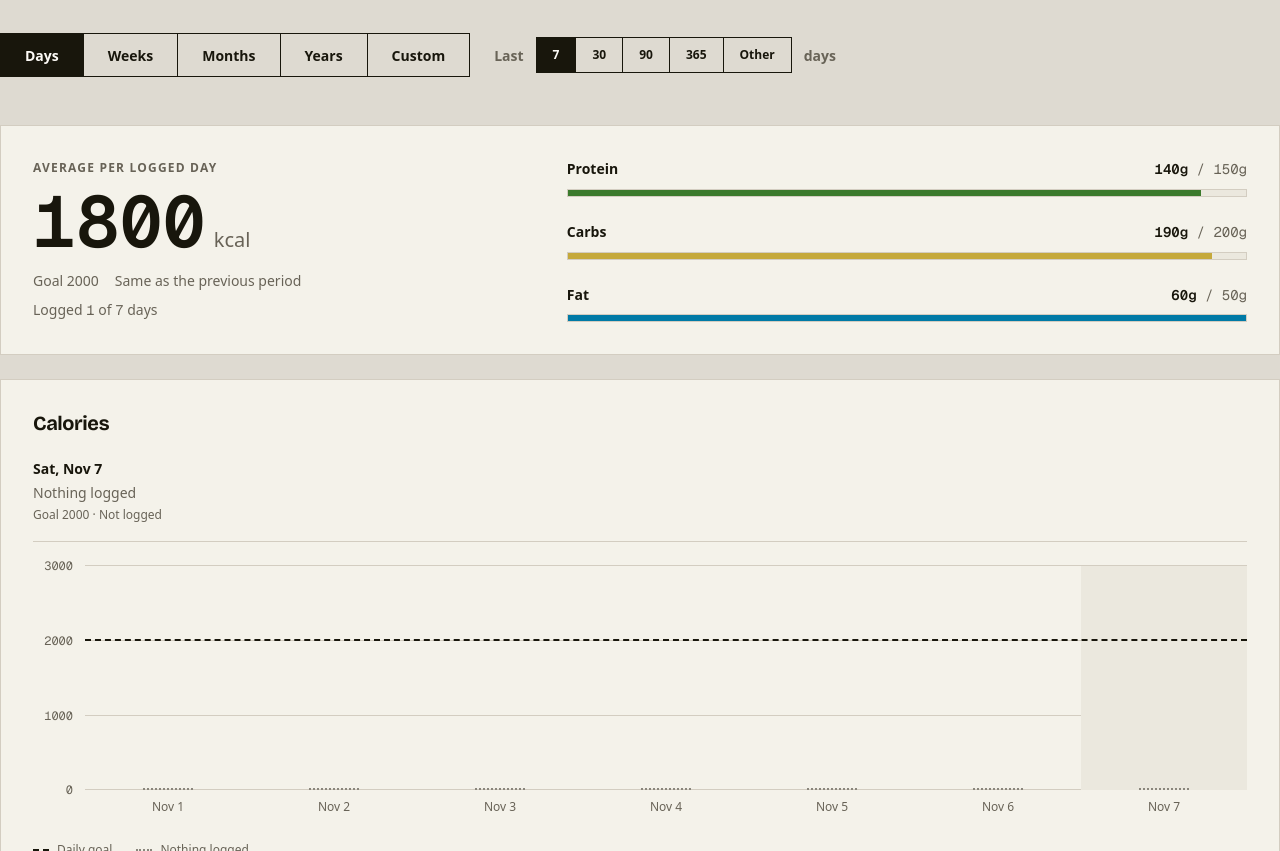
Test: Trends › lists weeks newest first, per logged day, with gaps and singular days spelled out
The width and height of the screenshot is (1280, 851).
Expected: the text "Average per logged day" is shown, [33, 159, 217, 176]
Click the button "Custom". click: (418, 55)
box: [368, 34, 469, 76]
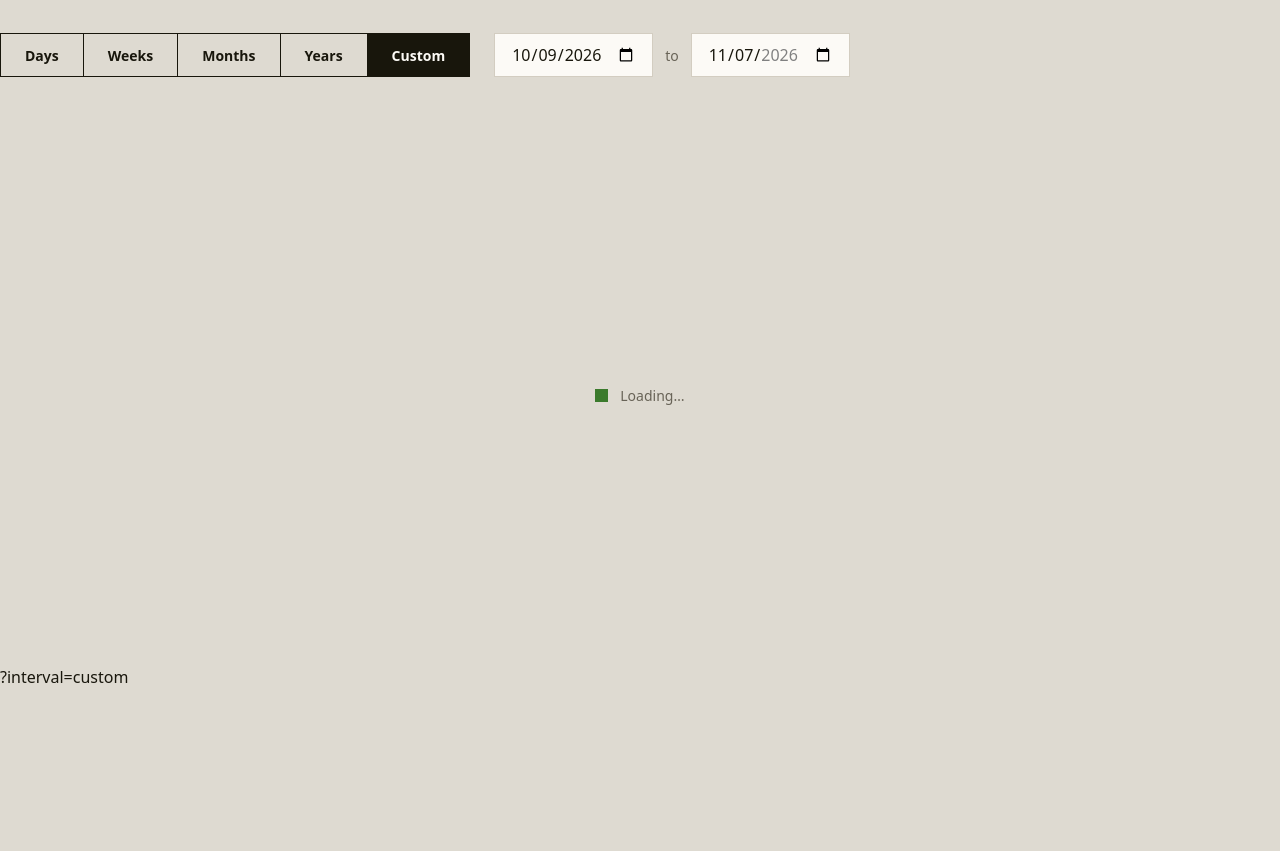
Type "2026-10-18" into the 1st date field named "Start date". click: (574, 55)
box: [494, 33, 653, 77]
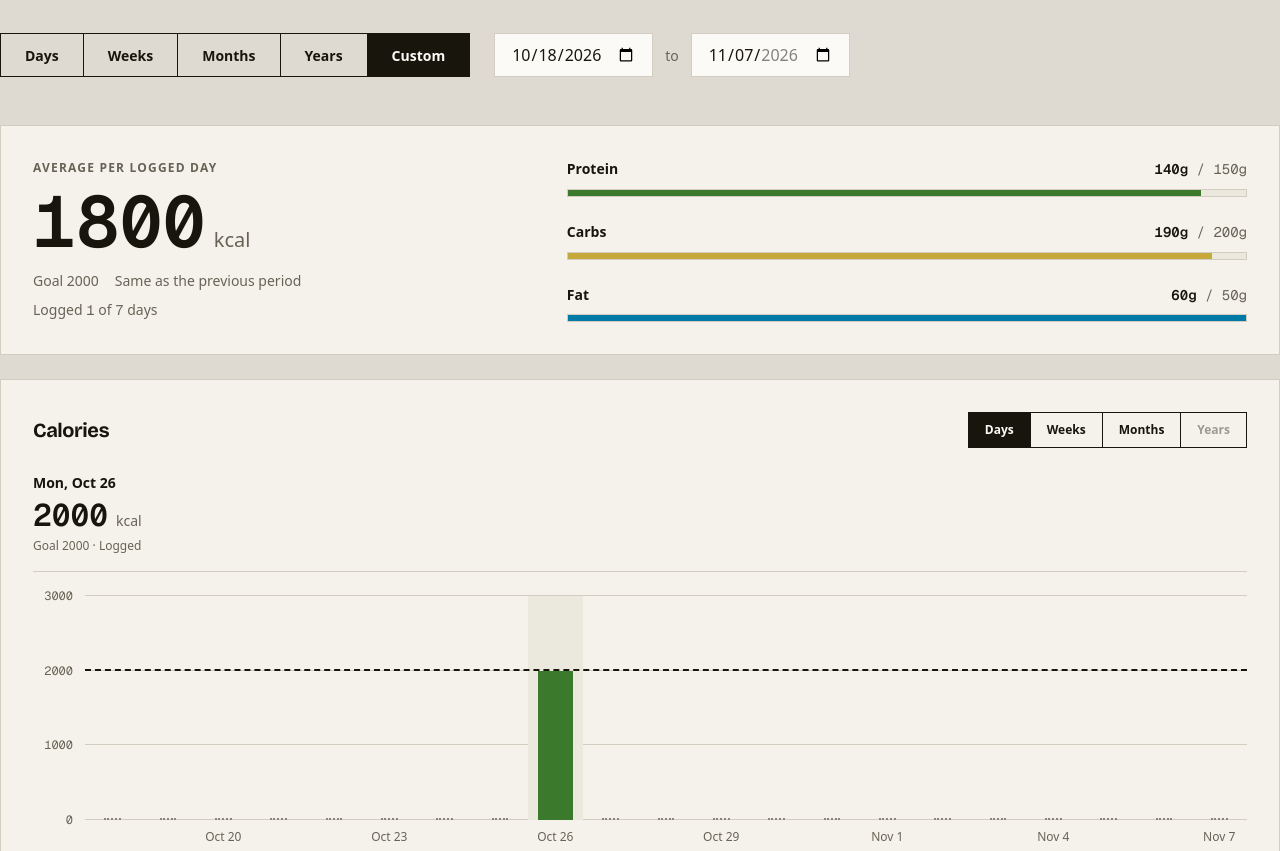
Click the button "Weeks" in the row of "Calories". click: (1067, 430)
box: [1031, 413, 1103, 447]
(page scrolled)
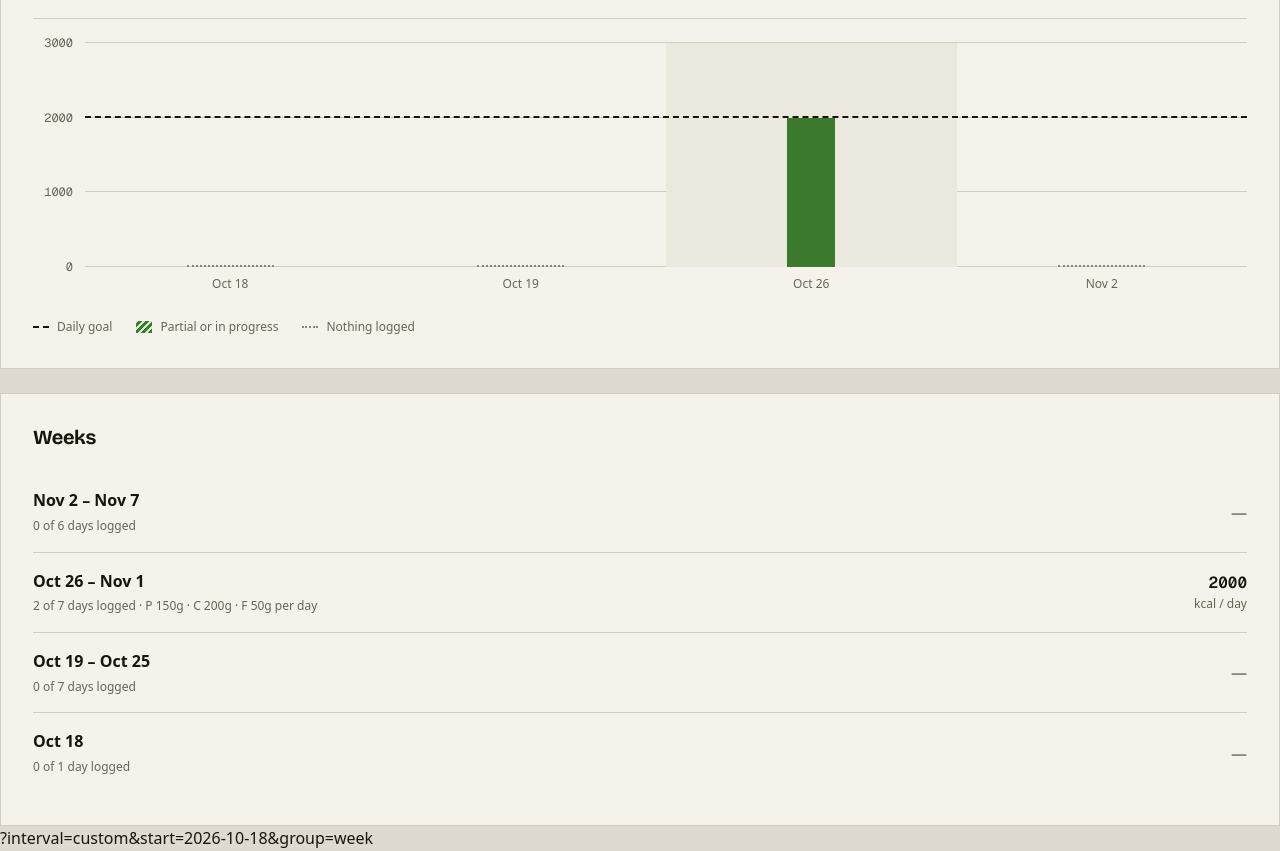
Expected: the heading "Weeks" is shown, [33, 425, 96, 449]
